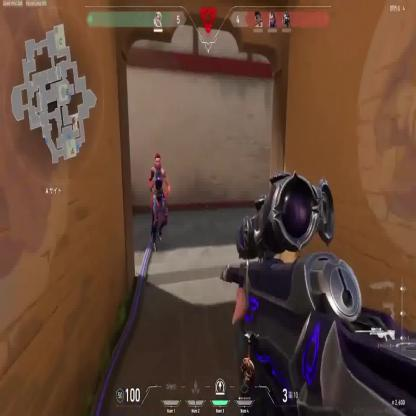enemy: (148, 152, 172, 252)
enemy_head: (154, 151, 163, 171)
